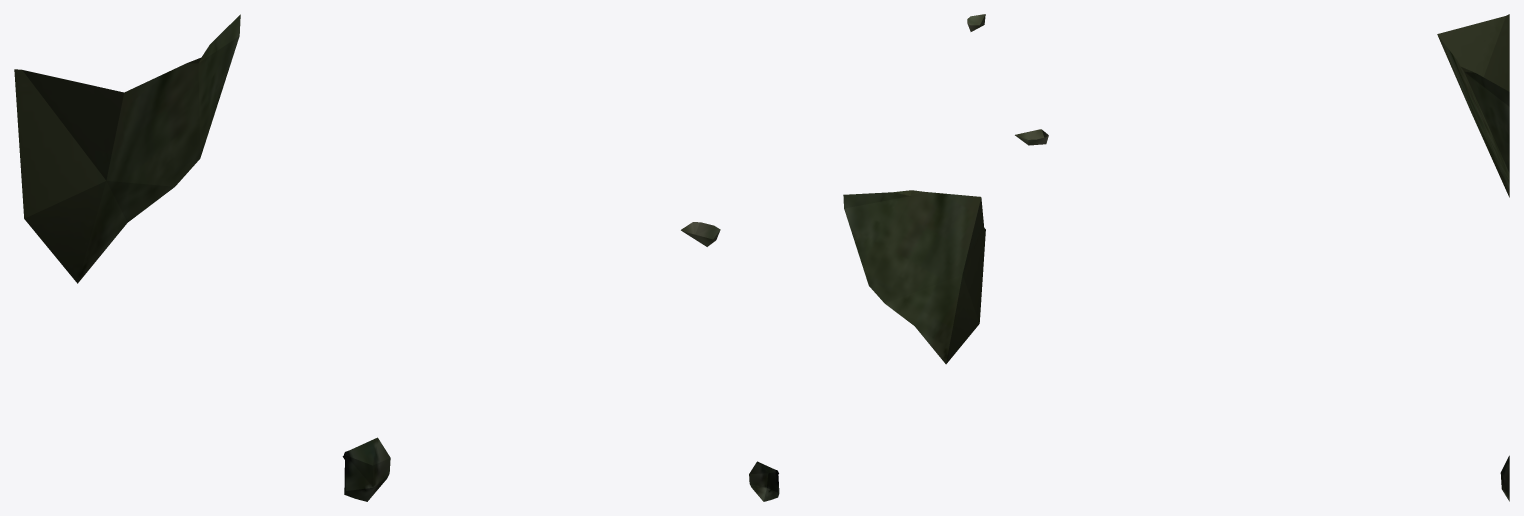
The picture shows the model from 3 angles, left to right: view 1: azimuth 30°, elevation 25°; view 2: azimuth 150°, elevation 25°; view 3: azimuth 270°, elevation 25°; orthographic projection. The views are drawn at different scales.
Bounding box in the file's own units: 1.31 × 1.73 × 2.12.
Materials: 1 (1 with a texture image).
